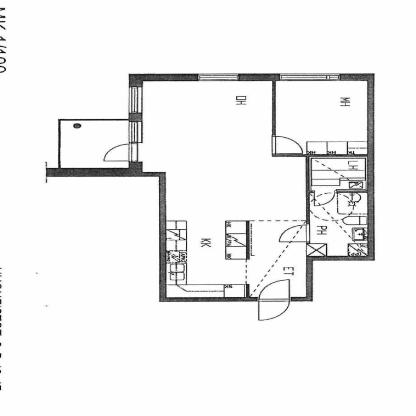door: (258, 279, 294, 323), (102, 143, 141, 162), (272, 135, 306, 156), (278, 225, 310, 243), (312, 190, 334, 207)
window: (279, 72, 339, 80), (129, 85, 142, 112), (198, 73, 238, 80), (128, 120, 141, 141)
zone: (142, 80, 306, 298), (274, 80, 365, 154), (309, 156, 368, 255), (60, 119, 128, 169)
